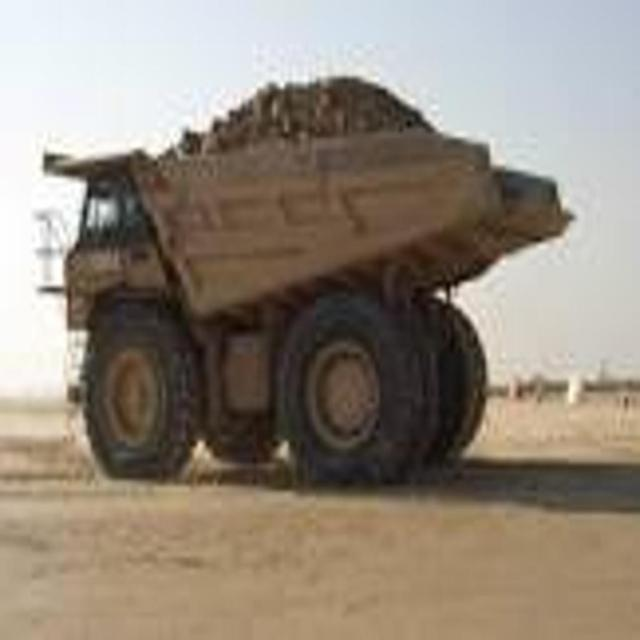dump_truck: (36, 54, 578, 511)
